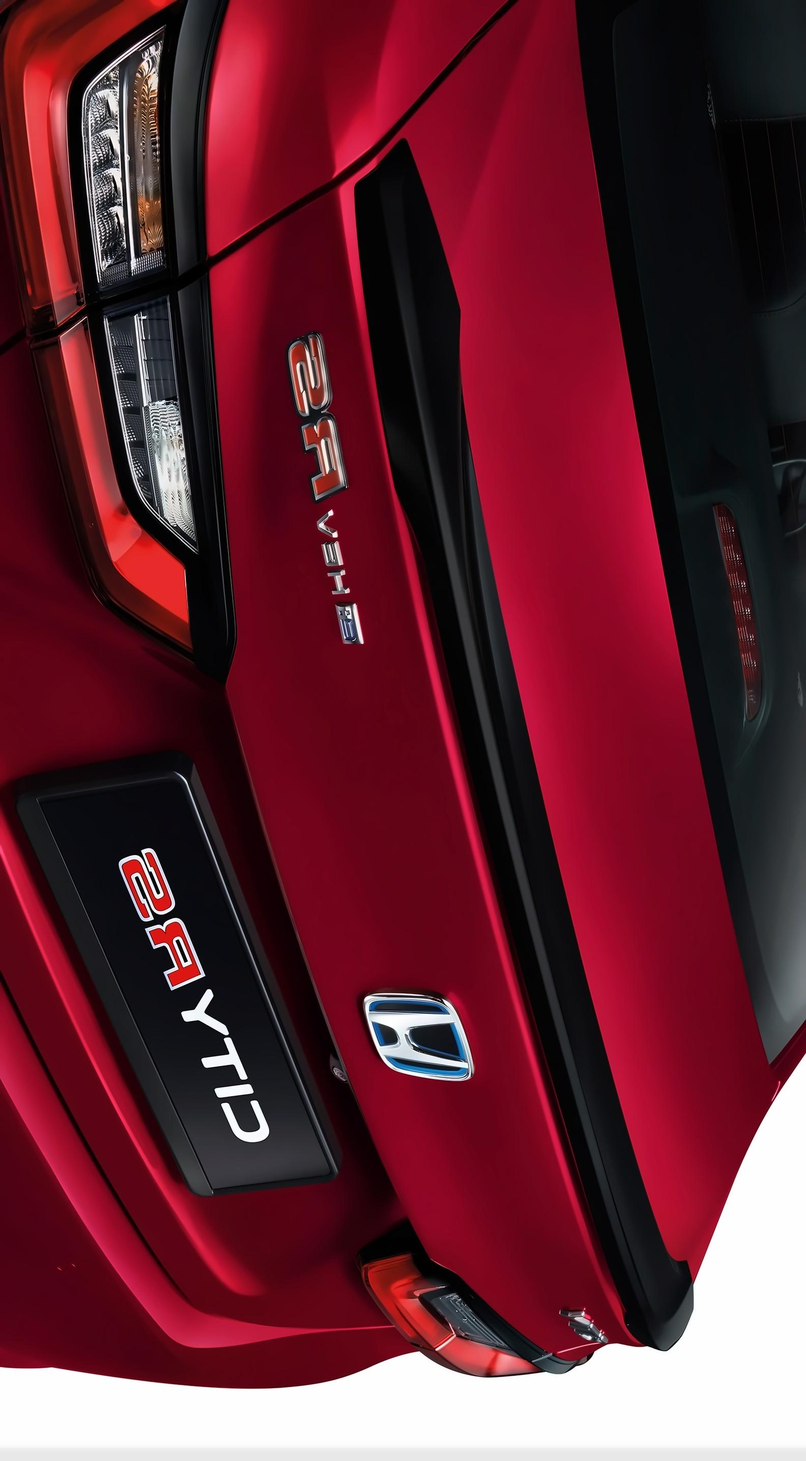Car boot: (0, 5, 748, 1311)
Fender - -R-R-: (62, 0, 224, 621)
Rear bumper: (0, 884, 413, 1393)
